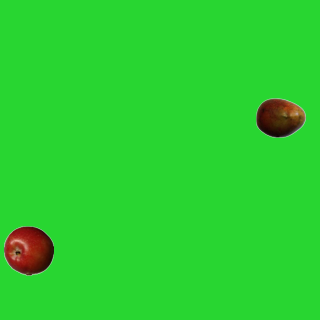Apple Braeburn: (3, 225, 53, 275)
Mango Red: (255, 92, 305, 142)
